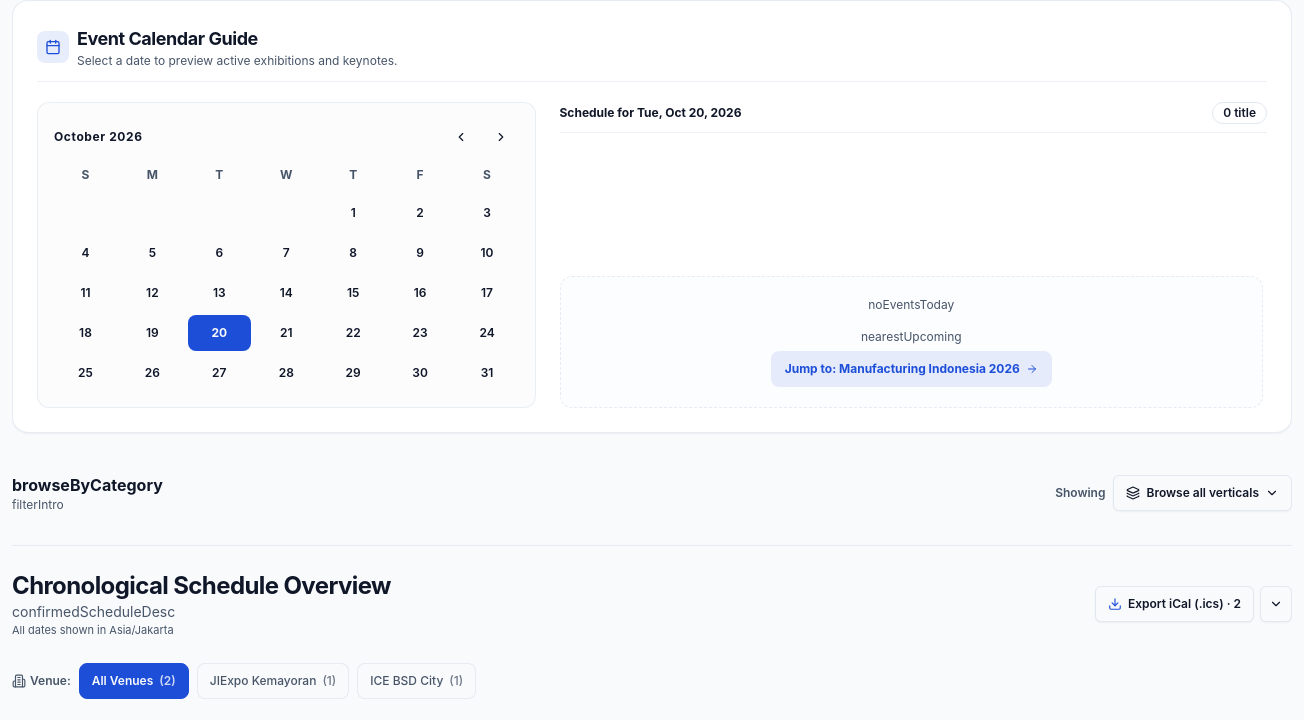
Test: CalendarInteractiveView Component › surfaces an inline error when iCal export fails instead of closing silently
Click the button "Export iCal (.ics) · 2" at (1174,604), box [1095,586,1254,622]
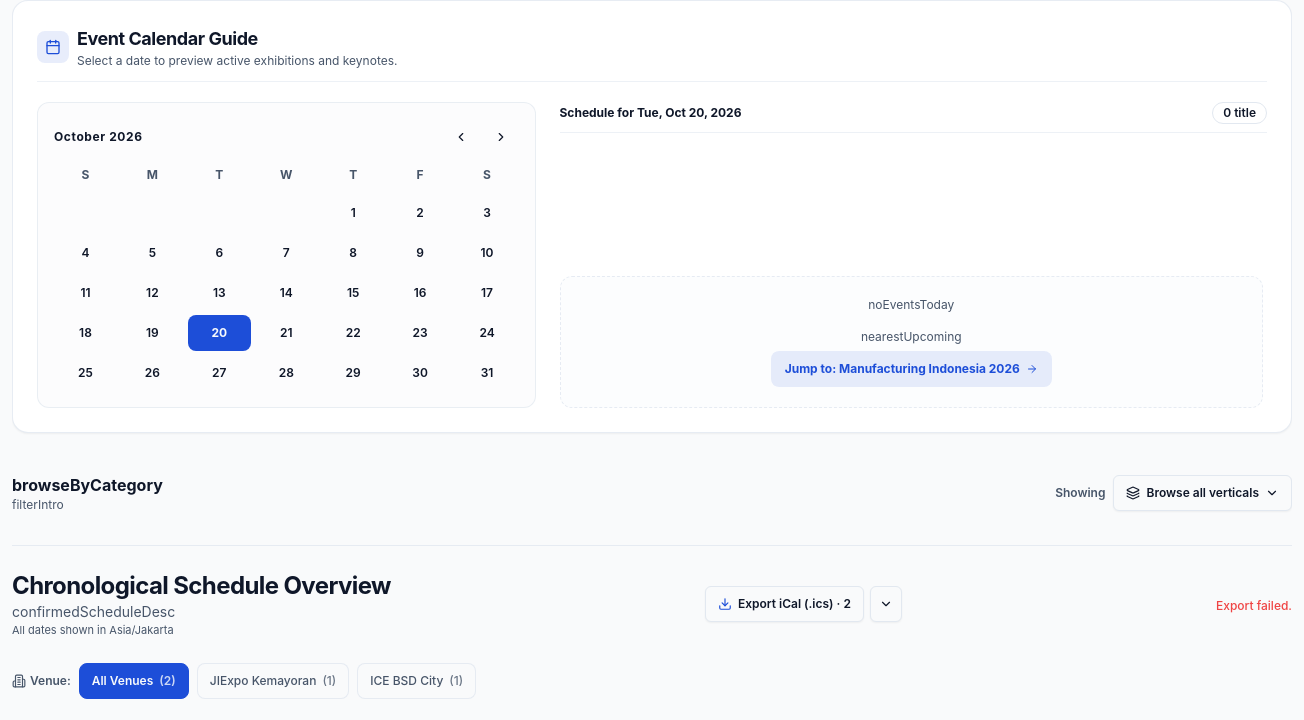
Check: the message "Export failed." is shown, box [1216,594,1292,614]
